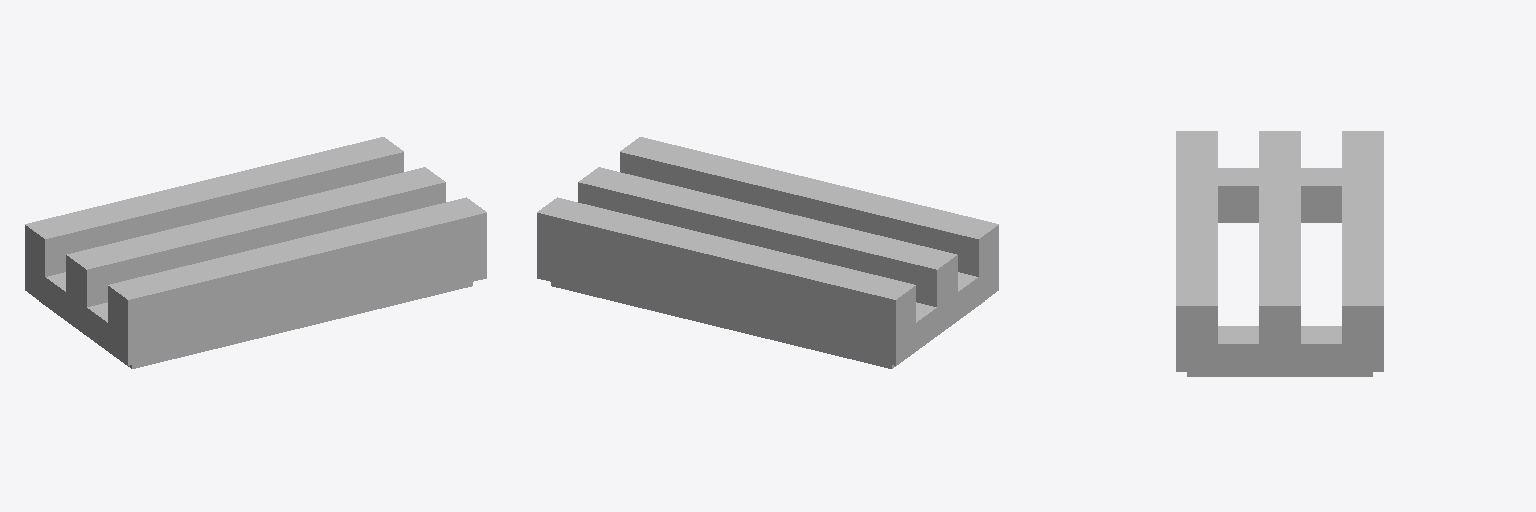
File: Tile_Grilled_1x2.obj
3 renders of one model, left to right at view 1: azimuth 30°, elevation 25°; view 2: azimuth 150°, elevation 25°; view 3: azimuth 270°, elevation 25°, orthographic.
Visible parts, largest first — view 1: 2412b_1.2412b_1n_2412b_1, rect_2.rect_2n_rect_2.004, rect_5.rect_5n_rect_5, box4_1.box4_1n_box4_1.005; view 2: 2412b_1.2412b_1n_2412b_1, rect_1.rect_1n_rect_1.004, rect_5.rect_5n_rect_5, box4_1.box4_1n_box4_1.005; view 3: 2412b_1.2412b_1n_2412b_1, rect_5.rect_5n_rect_5, box4_1.box4_1n_box4_1.005, rect_7.rect_7n_rect_7, rect_6.rect_6n_rect_6, rect_4.rect_4n_rect_4.001, rect_3.rect_3n_rect_3.001.
Boxes of the visible parts, x1=… form: 2412b_1.2412b_1n_2412b_1: x1=25, y1=137, x2=486, y2=364; rect_2.rect_2n_rect_2.004: x1=128, y1=213, x2=486, y2=365; rect_5.rect_5n_rect_5: x1=67, y1=167, x2=444, y2=269; box4_1.box4_1n_box4_1.005: x1=39, y1=282, x2=472, y2=368; 2412b_1.2412b_1n_2412b_1: x1=537, y1=137, x2=998, y2=364; rect_1.rect_1n_rect_1.004: x1=537, y1=213, x2=895, y2=365; rect_5.rect_5n_rect_5: x1=579, y1=167, x2=956, y2=269; box4_1.box4_1n_box4_1.005: x1=551, y1=282, x2=984, y2=368; 2412b_1.2412b_1n_2412b_1: x1=1176, y1=131, x2=1383, y2=371; rect_5.rect_5n_rect_5: x1=1259, y1=131, x2=1300, y2=305; box4_1.box4_1n_box4_1.005: x1=1187, y1=372, x2=1372, y2=376; rect_7.rect_7n_rect_7: x1=1218, y1=326, x2=1258, y2=343; rect_6.rect_6n_rect_6: x1=1218, y1=168, x2=1258, y2=185; rect_4.rect_4n_rect_4.001: x1=1301, y1=326, x2=1341, y2=343; rect_3.rect_3n_rect_3.001: x1=1301, y1=168, x2=1341, y2=185.
Bounding box in the file's own units: 4 × 0.8 × 2.